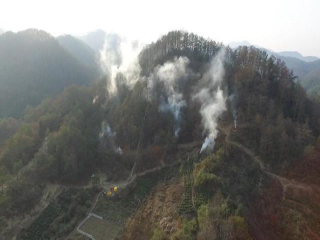smoke: (99, 35, 240, 154)
